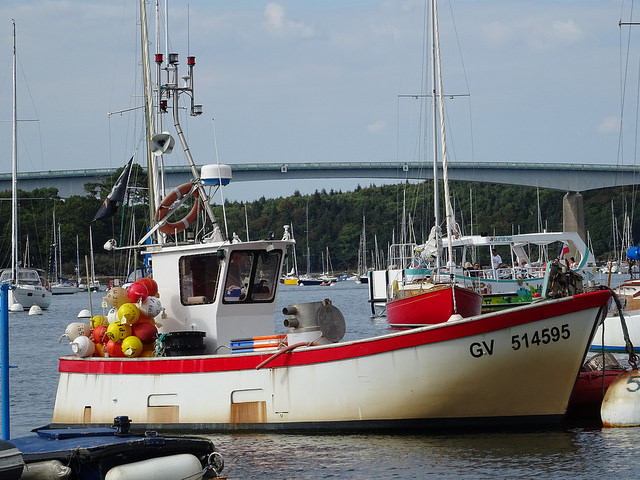fishing_boat: (49, 47, 611, 423)
